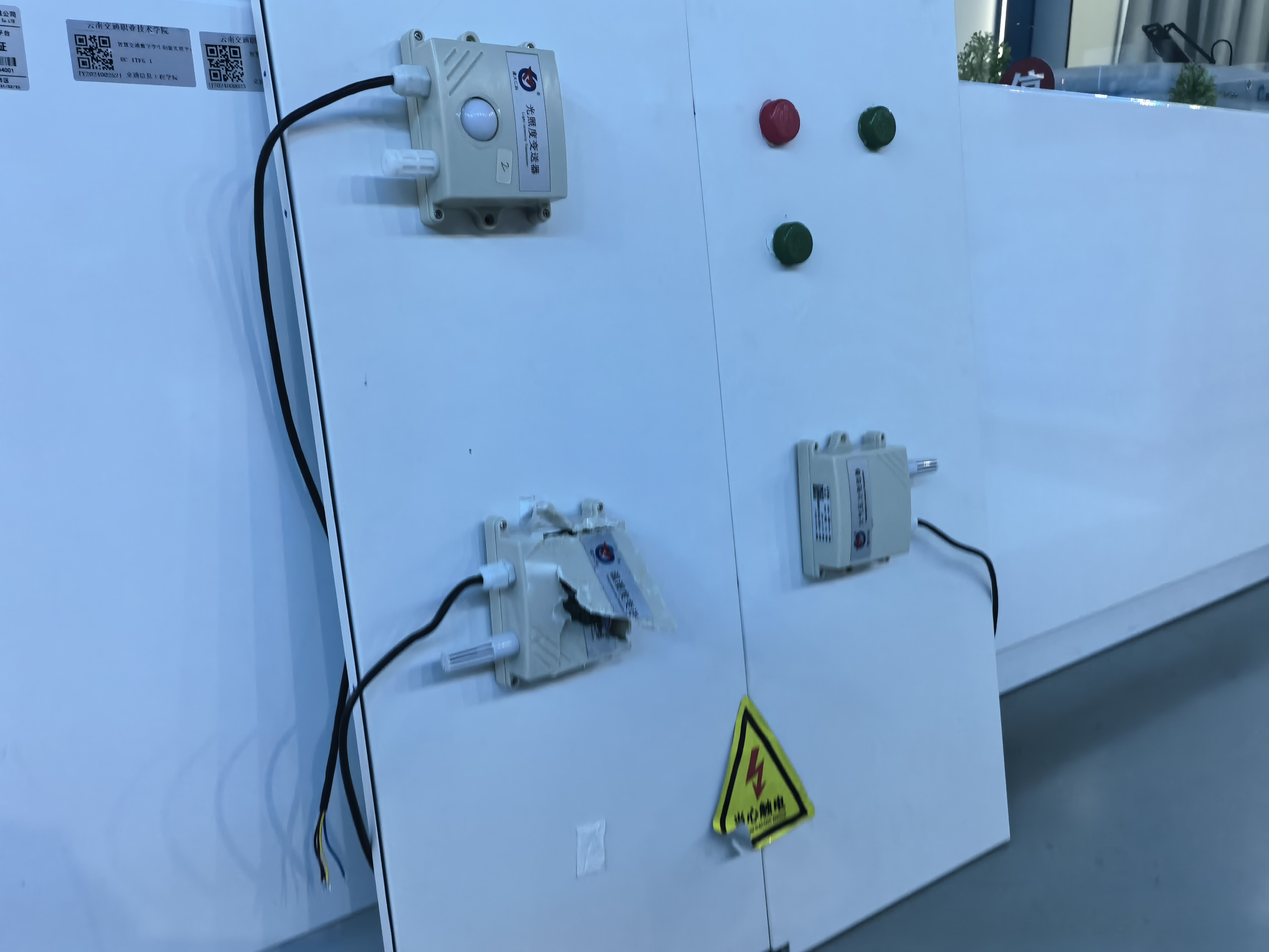red_warning: (740, 81, 823, 160)
sensor_damage: (421, 476, 704, 712)
